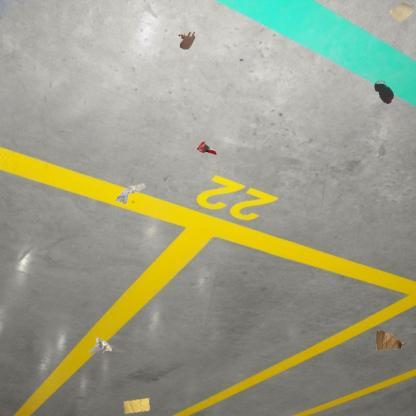dirty: (114, 181, 147, 207), (387, 0, 415, 24), (374, 330, 404, 352), (122, 396, 152, 416), (88, 335, 115, 356), (194, 139, 218, 157)
liquid: (373, 80, 395, 106), (177, 30, 196, 50)
